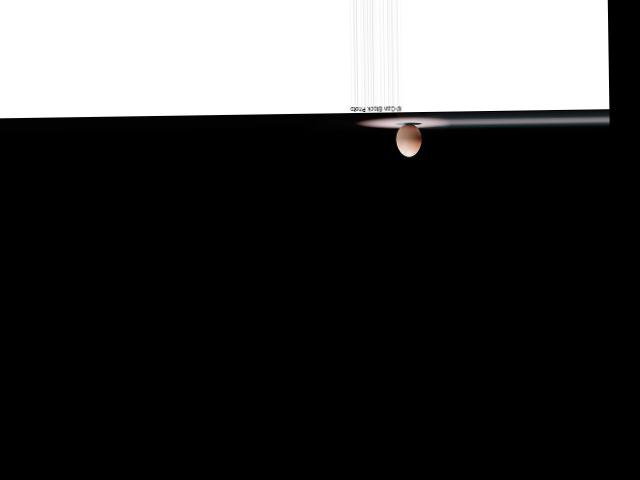egg: (395, 123, 422, 156)
